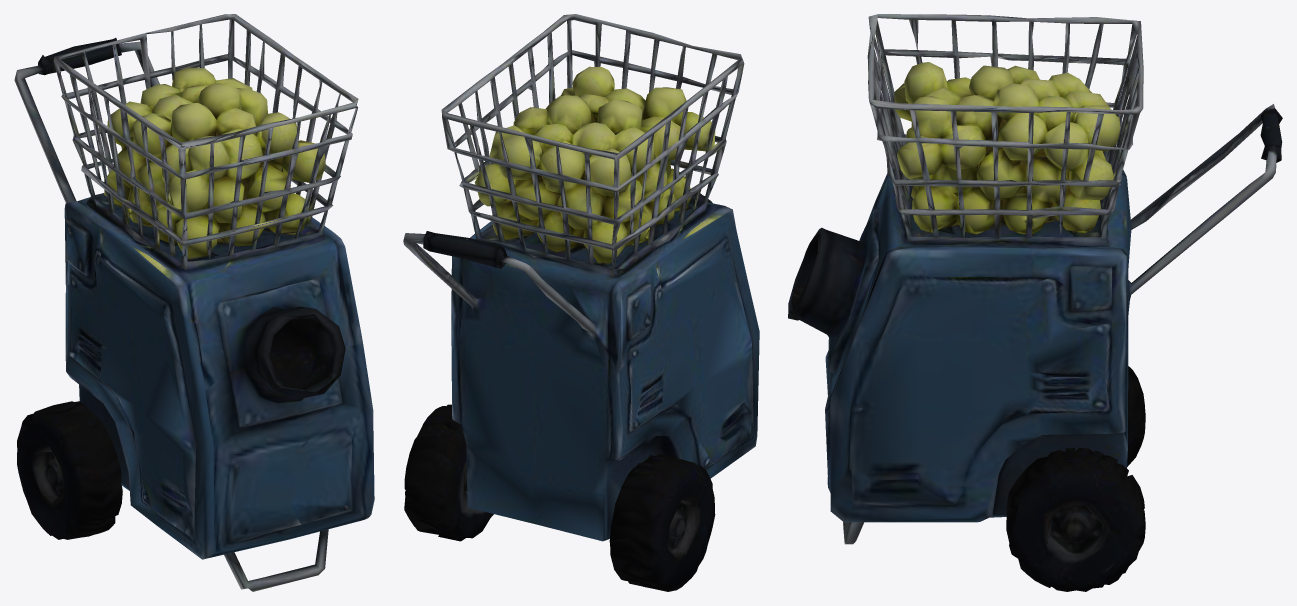
The model's file is ballmaschine.glb.
3 views of the same model, side by side, from view 1: azimuth 30°, elevation 25°; view 2: azimuth 150°, elevation 25°; view 3: azimuth 270°, elevation 25° (orthographic). The views are drawn at different scales.
Parts seen in each view (by area): view 1: tripo_node_3c67b01d-55ba-44f5-bdf6-b83c305344bc; view 2: tripo_node_3c67b01d-55ba-44f5-bdf6-b83c305344bc; view 3: tripo_node_3c67b01d-55ba-44f5-bdf6-b83c305344bc.
Boxes of the visible parts, bbox=[...] form: tripo_node_3c67b01d-55ba-44f5-bdf6-b83c305344bc: bbox=[14, 14, 374, 591]; tripo_node_3c67b01d-55ba-44f5-bdf6-b83c305344bc: bbox=[403, 14, 759, 591]; tripo_node_3c67b01d-55ba-44f5-bdf6-b83c305344bc: bbox=[788, 14, 1282, 591].
Size of the model in its own units: 0.5859 by 0.9997 by 0.9452.
1 material, 1 textured.
